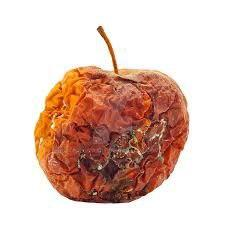Apple: (36, 66, 190, 204)
